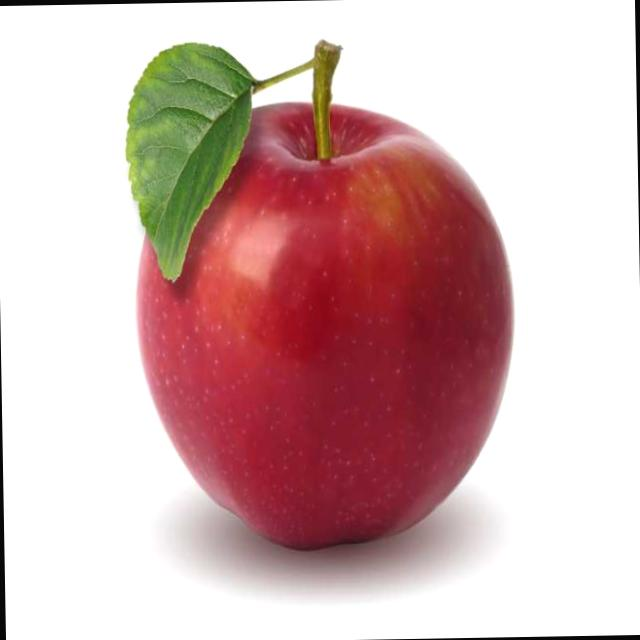alpple: (113, 91, 528, 558)
